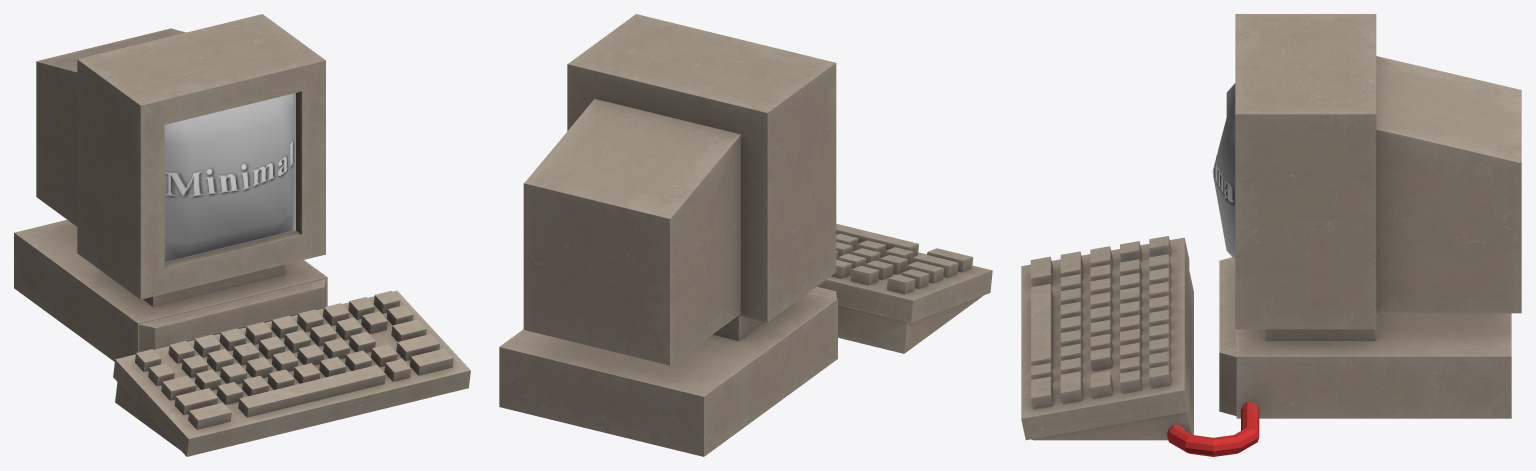
The model's file is Computer_Minimal.glb.
The picture shows the model from 3 angles, left to right: view 1: azimuth 30°, elevation 25°; view 2: azimuth 150°, elevation 25°; view 3: azimuth 270°, elevation 25°; orthographic projection. The views are drawn at different scales.
Parts seen in each view (by area): view 1: Computer_Minimal; view 2: Computer_Minimal; view 3: Computer_Minimal.
Boxes of the visible parts, <box> form: Computer_Minimal: <box>14,14,470,456</box>; Computer_Minimal: <box>499,14,992,456</box>; Computer_Minimal: <box>1021,14,1521,456</box>.
Size of the model in its own units: 12.97 by 10.85 by 16.24.
1 material, 1 textured.
